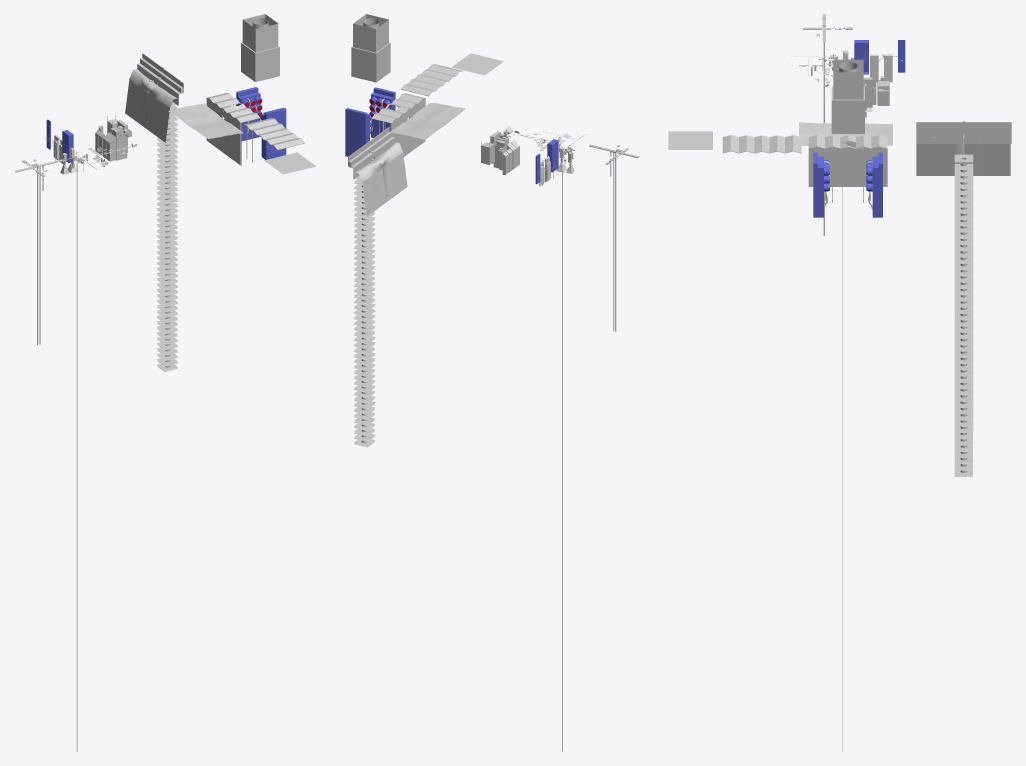
Rendered from Props.fbx.
The picture shows the model from 3 angles, left to right: view 1: azimuth 30°, elevation 25°; view 2: azimuth 150°, elevation 25°; view 3: azimuth 270°, elevation 25°; orthographic projection. The views are drawn at different scales.
Visible parts, largest first — view 1: Temple_EndingDropPlate.001, Factory_MassiveCeilingFanCase, Temple_RoadLandingField, Factory_OpenField, Background_ScaffoldEndless, Factory_IncineratorExtraDetails, Factory_BarnRoof_Backup, Temple_EntranceWall, Factory_Barn, Factory_BarnRoof, SubdividedPlane; view 2: Temple_EndingDropPlate.001, Factory_MassiveCeilingFanCase, Temple_RoadLandingField, Factory_IncineratorExtraDetails, Factory_OpenField, Factory_BarnRoof_Backup, Temple_EntranceWall, Factory_Barn, Factory_BarnRoof, SubdividedPlane, Background_ScaffoldEndless; view 3: Temple_EndingDropPlate.001, Temple_RoadLandingField, Factory_MassiveCeilingFanCase, Factory_Barn, Temple_EntranceWall, Factory_IncineratorExtraDetails, Factory_BarnRoof_Backup, Factory_OpenField, Factory_BarnRoof, SubdividedPlane.
Part boxes in pixels (x1,y1,x2,y2): Temple_EndingDropPlate.001: (157, 102, 177, 371); Factory_MassiveCeilingFanCase: (241, 14, 279, 81); Temple_RoadLandingField: (125, 69, 177, 142); Factory_OpenField: (168, 103, 243, 138); Background_ScaffoldEndless: (76, 157, 77, 751); Factory_IncineratorExtraDetails: (236, 87, 286, 159); Factory_BarnRoof_Backup: (243, 118, 305, 150); Temple_EntranceWall: (137, 53, 183, 105); Factory_Barn: (206, 98, 240, 165); Factory_BarnRoof: (206, 93, 260, 122); SubdividedPlane: (264, 152, 315, 174); Temple_EndingDropPlate.001: (354, 175, 375, 447); Factory_MassiveCeilingFanCase: (351, 14, 390, 82); Temple_RoadLandingField: (354, 142, 407, 216); Factory_IncineratorExtraDetails: (345, 87, 395, 156); Factory_OpenField: (391, 103, 465, 139); Factory_BarnRoof_Backup: (400, 64, 462, 96); Temple_EntranceWall: (348, 126, 394, 179); Factory_Barn: (391, 98, 425, 156); Factory_BarnRoof: (371, 93, 425, 123); SubdividedPlane: (451, 53, 503, 75); Background_ScaffoldEndless: (562, 172, 562, 751); Temple_EndingDropPlate.001: (954, 158, 973, 476); Temple_RoadLandingField: (916, 134, 1010, 175); Factory_MassiveCeilingFanCase: (831, 59, 864, 133); Factory_Barn: (808, 141, 887, 186); Temple_EntranceWall: (916, 121, 1011, 143); Factory_IncineratorExtraDetails: (813, 152, 882, 217); Factory_BarnRoof_Backup: (722, 135, 801, 153); Factory_OpenField: (799, 122, 892, 146); Factory_BarnRoof: (808, 135, 887, 148); SubdividedPlane: (668, 131, 712, 149).
Size of what is drawn, in the model's own units: 1610192 by 3913130 by 1536974.
